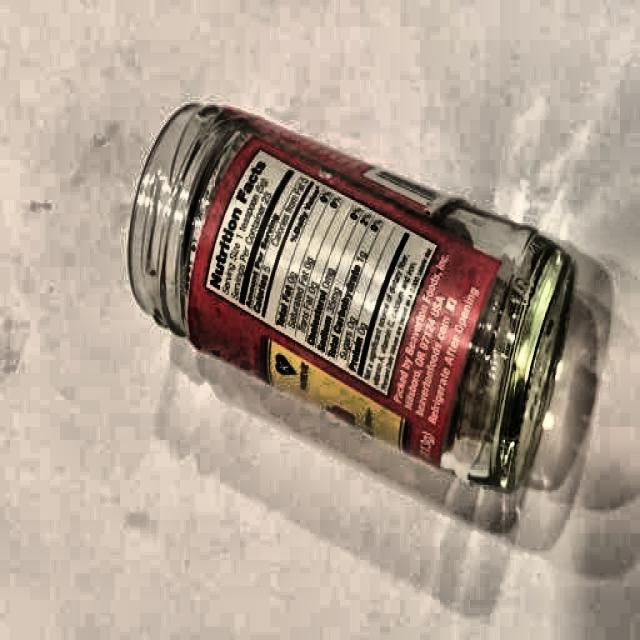glass: (126, 102, 575, 500)
